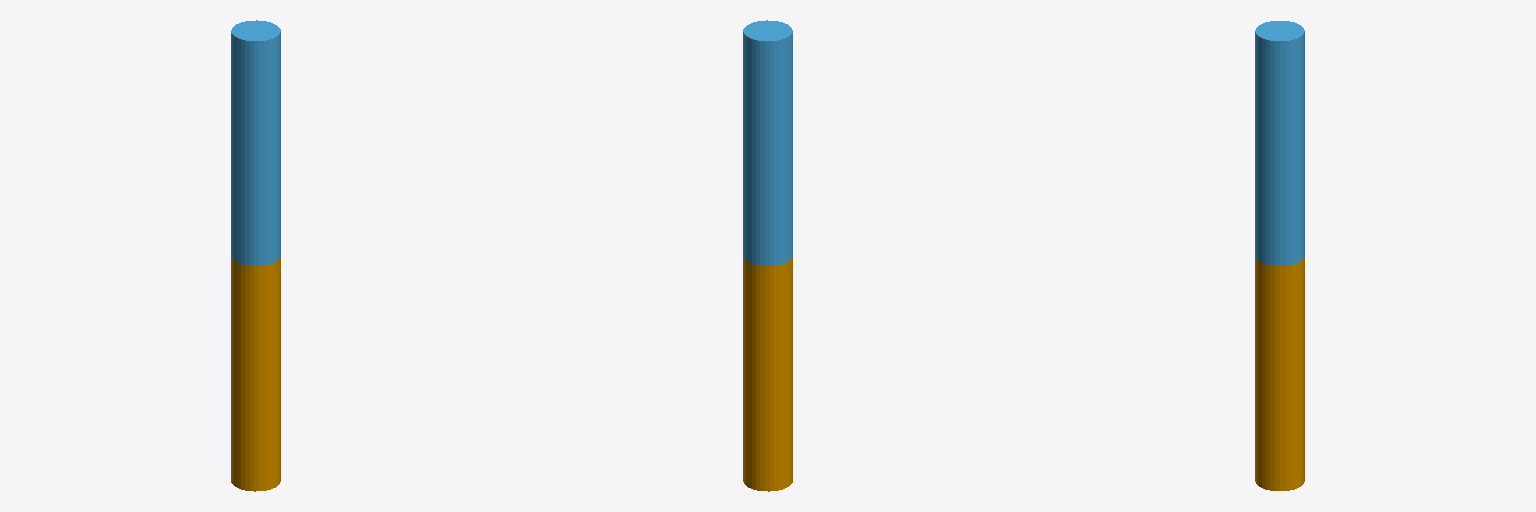
The robot description file, URDF, robot "my_robot":
<?xml version="1.0" ?>
<robot name="my_robot" xmlns:xacro="http://www.ros.org/wiki/xacro">
    <!-- First Link -->
    <link name="base_footprint">
        <pose>0 0 0 0 0 0</pose>
        <collision name="collision">
            <geometry>
                <cylinder length="1" radius="0.1" />
            </geometry>
        </collision>
        <visual>
            <origin rpy="0 0 0" xyz="0 0 0" />
            <geometry>
                <cylinder length="1" radius="0.1" />
            </geometry>
        </visual>
    </link>
    <!-- Second Link -->
    <link name="second_link">

        <pose>0 0 0 0 0 0</pose>
        <collision name="collision">
            <geometry>
                <cylinder length="1" radius="0.1" />
            </geometry>
        </collision>
        <visual>
            <origin rpy="0 0 0" xyz="0 0 0.5" />
            <geometry>
                <cylinder length="1" radius="0.1" />
            </geometry>
        </visual>
    </link>
        <!-- similar to base_footprint link -->
    
    <!-- Joint -->
    <joint name="joint1" type="continuous">
        <origin xyz="0 0 0.5" rpy="0 0 0" />
        <parent link="base_footprint" />
        <child link="second_link" />
    </joint>
</robot>

--- Render facts (derived) ---
The picture shows the robot from 3 angles, left to right: view 1: azimuth 30°, elevation 25°; view 2: azimuth 150°, elevation 25°; view 3: azimuth 270°, elevation 25°; orthographic projection.
Robot: my_robot — 2 links, 1 joints (1 continuous); root link base_footprint; default pose: every joint at zero.
Links seen in each view (by area): view 1: second_link, base_footprint; view 2: second_link, base_footprint; view 3: second_link, base_footprint.
Boxes of the visible links, x1,y1,x2,y2 form: second_link: (231,20,280,265); base_footprint: (231,257,280,491); second_link: (743,20,792,265); base_footprint: (743,257,792,491); second_link: (1255,21,1304,265); base_footprint: (1255,257,1304,490).
Size in the robot's own frame: 0.2 by 0.2 by 2 metres.
Geometry: primitives only (box / cylinder / sphere), no mesh files.